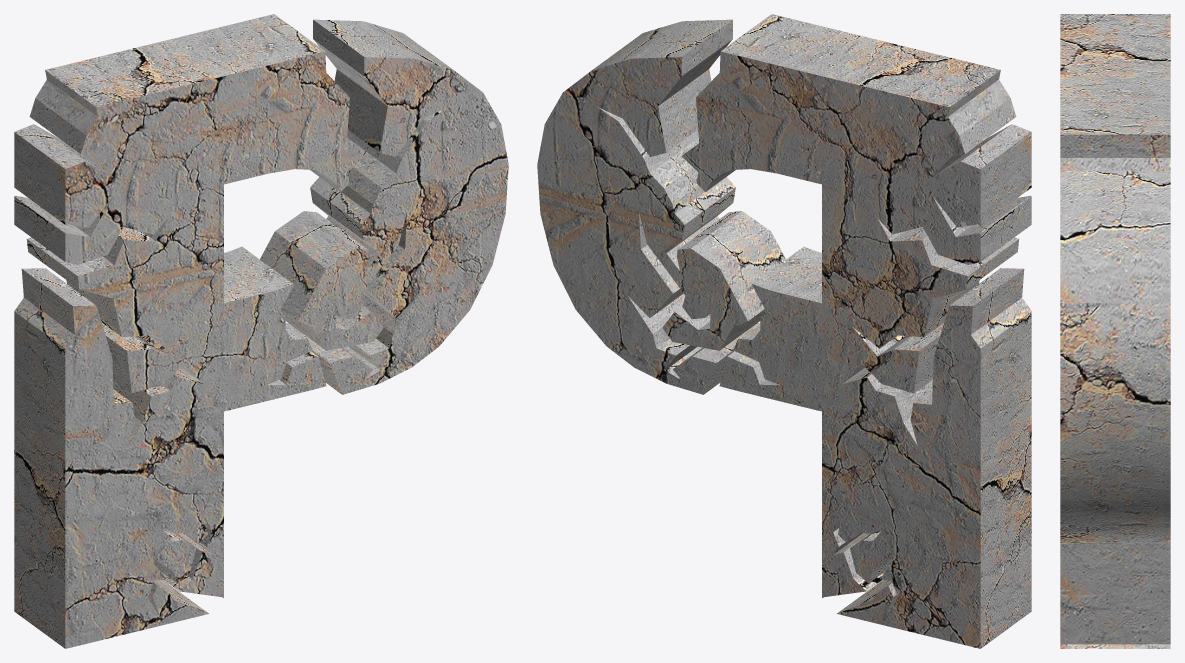
3 views of the same model, side by side, from view 1: azimuth 30°, elevation 25°; view 2: azimuth 150°, elevation 25°; view 3: azimuth 270°, elevation 25° (orthographic). The views are drawn at different scales.
Visible parts, largest first — view 1: P; view 2: P; view 3: P.
Part boxes in pixels (x1,y1,x2,y2): P: [14, 14, 508, 648]; P: [537, 14, 1031, 648]; P: [1060, 14, 1170, 648].
Size of the model in its own units: 75.02 by 86.36 by 15.
Materials: 1 (1 with a texture image).
